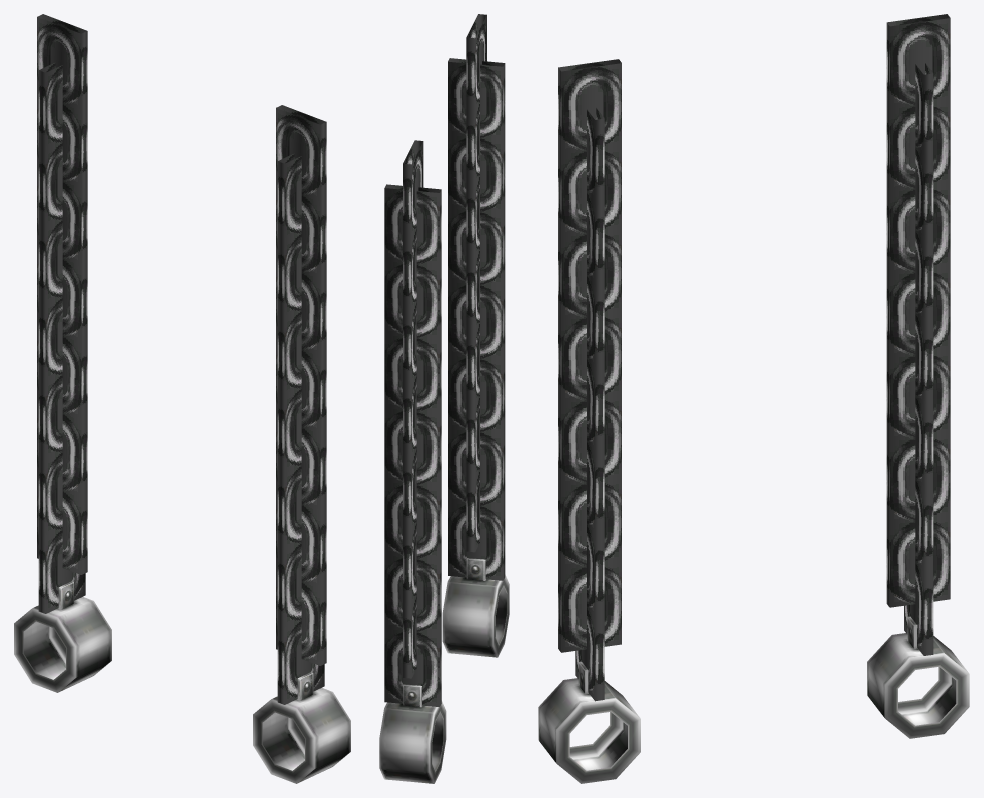
Rendered from SWORDLIGHT20_INST_CHAINCUFFS_LOD1_03.fbx.
3 renders of one model, left to right at view 1: azimuth 30°, elevation 25°; view 2: azimuth 150°, elevation 25°; view 3: azimuth 270°, elevation 25°, orthographic. The views are drawn at different scales.
Visible parts, largest first — view 1: SWORDLIGHT20_INST_CHAINCUFFS_LOD1_03; view 2: SWORDLIGHT20_INST_CHAINCUFFS_LOD1_03; view 3: SWORDLIGHT20_INST_CHAINCUFFS_LOD1_03.
Part boxes in pixels (x1=…): SWORDLIGHT20_INST_CHAINCUFFS_LOD1_03: x1=14, y1=14, x2=350, y2=783; SWORDLIGHT20_INST_CHAINCUFFS_LOD1_03: x1=379, y1=14, x2=509, y2=783; SWORDLIGHT20_INST_CHAINCUFFS_LOD1_03: x1=538, y1=14, x2=969, y2=783.
Size of the model in its own units: 2959 by 12114 by 6721.
2 materials, 2 textured.
